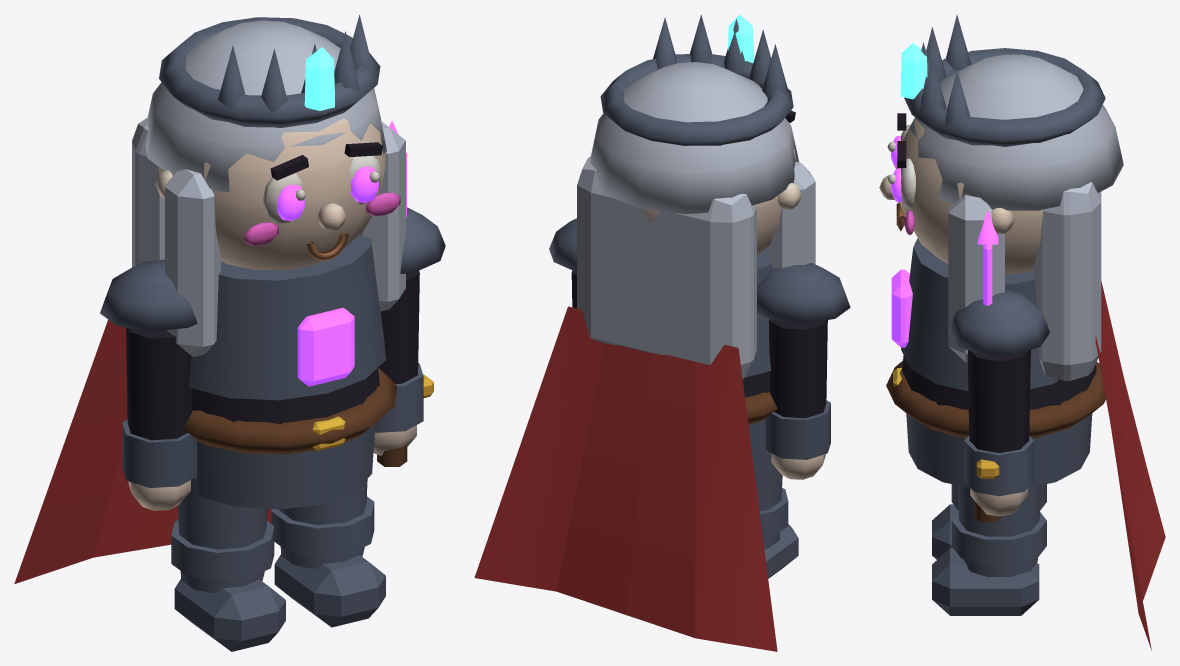
Rendered from hero_valdor.glb.
The picture shows the model from 3 angles, left to right: view 1: azimuth 30°, elevation 25°; view 2: azimuth 150°, elevation 25°; view 3: azimuth 270°, elevation 25°; orthographic projection. The views are drawn at different scales.
Parts seen in each view (by area): view 1: body_t0_palette, arml_t0_palette, legl_t0_palette, legr_t0_palette, armr_t0_palette, body_t0_shadow_glow, body_t0_crystal; view 2: body_t0_palette, arml_t0_palette, legl_t0_palette, armr_t0_palette, body_t0_crystal; view 3: body_t0_palette, armr_t0_palette, legr_t0_palette, body_t0_shadow_glow, legl_t0_palette, body_t0_crystal, armr_t0_shadow_glow.
Boxes of the visible parts, x1=… form: body_t0_palette: x1=14, y1=14, x2=405, y2=583; arml_t0_palette: x1=100, y1=259, x2=197, y2=510; legl_t0_palette: x1=171, y1=477, x2=285, y2=651; legr_t0_palette: x1=271, y1=479, x2=385, y2=627; armr_t0_palette: x1=373, y1=207, x2=445, y2=466; body_t0_shadow_glow: x1=277, y1=166, x2=378, y2=386; body_t0_crystal: x1=304, y1=47, x2=334, y2=110; body_t0_palette: x1=474, y1=14, x2=815, y2=651; arml_t0_palette: x1=756, y1=263, x2=850, y2=479; legl_t0_palette: x1=754, y1=451, x2=798, y2=578; armr_t0_palette: x1=549, y1=218, x2=576, y2=308; body_t0_crystal: x1=728, y1=14, x2=753, y2=63; body_t0_palette: x1=879, y1=14, x2=1165, y2=650; armr_t0_palette: x1=948, y1=289, x2=1049, y2=522; legr_t0_palette: x1=932, y1=485, x2=1046, y2=615; body_t0_shadow_glow: x1=891, y1=135, x2=912, y2=347; legl_t0_palette: x1=932, y1=484, x2=1046, y2=559; body_t0_crystal: x1=900, y1=43, x2=927, y2=99; armr_t0_shadow_glow: x1=977, y1=210, x2=998, y2=305.
Size of the model in its own units: 0.32 by 0.53 by 0.253.
